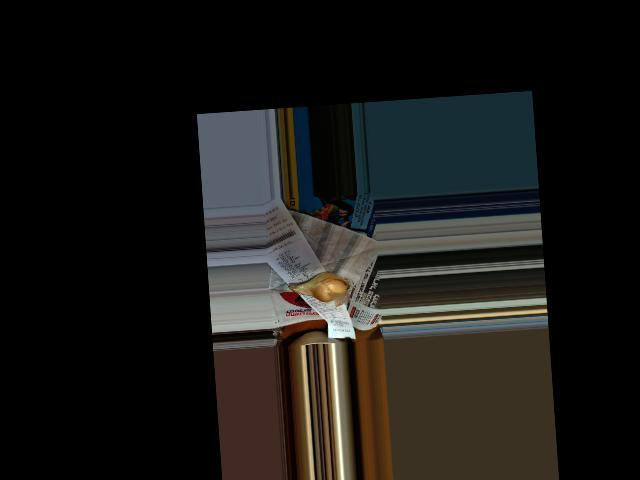onion: (292, 268, 348, 303)
